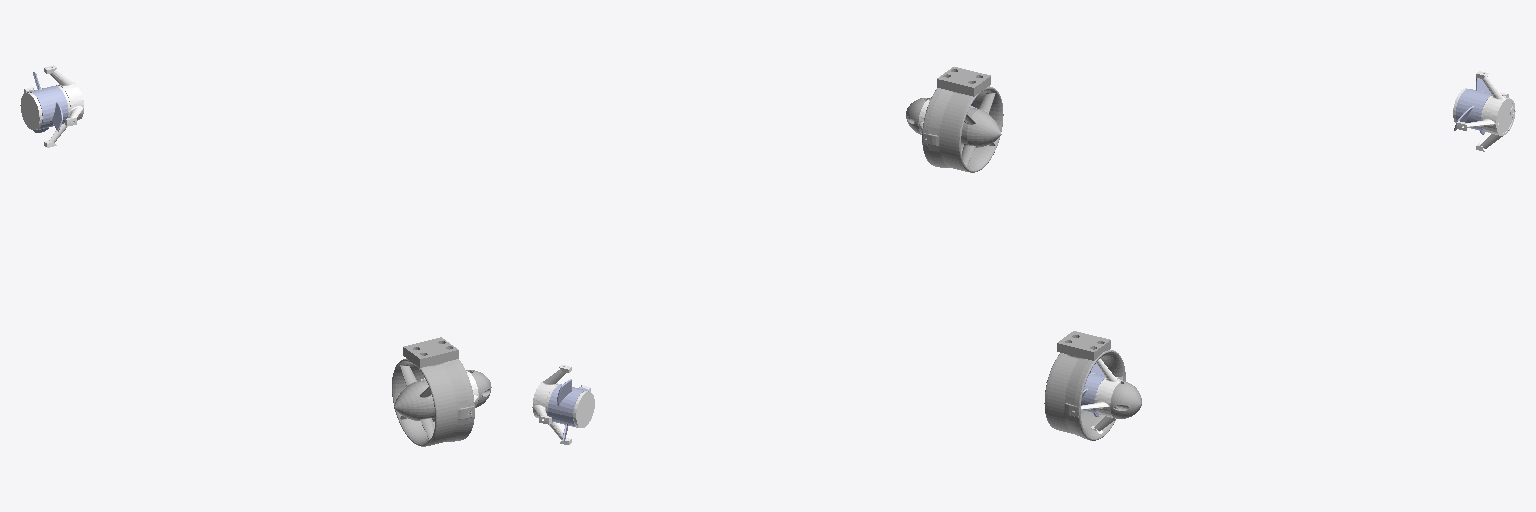
URDF robot description (CleaningBoat):
<?xml version="1.0" encoding="utf-8"?>
<!-- This URDF was automatically created by SolidWorks to URDF Exporter! Originally created by [author] ([email redacted]) 
     Commit Version: 1.6.0-4-g7f85cfe  Build Version: 1.6.7995.38578
     For more information, please see http://wiki.ros.org/sw_urdf_exporter -->
<robot
  name="CleaningBoat">
  <link
    name="base_boat">
    <inertial>
      <origin
        xyz="-0.0504299123892678 -0.00399328466998017 -0.174875808375425"
        rpy="0 0 0" />
      <mass
        value="13.4637284801427" />
      <inertia
        ixx="0.12480067925069"
        ixy="1.14626035110482E-06"
        ixz="-0.00148139606626633"
        iyy="0.0960555455042695"
        iyz="9.16339224172531E-06"
        izz="0.136334518910552" />
    </inertial>
    <visual>
      <origin
        xyz="0 0 0"
        rpy="0 0 0" />
      <geometry>
        <mesh
          filename="package://CleaningBoat/meshes/base_boat.STL" />
      </geometry>
      <material
        name="">
        <color
          rgba="0.752941176470588 0.752941176470588 0.752941176470588 1" />
      </material>
    </visual>
    <collision>
      <origin
        xyz="0 0 0"
        rpy="0 0 0" />
      <geometry>
        <mesh
          filename="package://CleaningBoat/meshes/base_boat.STL" />
      </geometry>
    </collision>
  </link>
  <link
    name="axe_droit">
    <inertial>
      <origin
        xyz="0.0230109768079529 -1.26854790101494E-06 4.87990531770899E-06"
        rpy="0 0 0" />
      <mass
        value="0.0681006952021269" />
      <inertia
        ixx="1.72388165413107E-05"
        ixy="1.96746157954376E-09"
        ixz="-7.48619976047338E-09"
        iyy="2.32241540649935E-05"
        iyz="-1.63733967087246E-09"
        izz="2.32478078421983E-05" />
    </inertial>
    <visual>
      <origin
        xyz="0 0 0"
        rpy="0 0 0" />
      <geometry>
        <mesh
          filename="package://CleaningBoat/meshes/axe_droit.STL" />
      </geometry>
      <material
        name="">
        <color
          rgba="1 1 1 1" />
      </material>
    </visual>
    <collision>
      <origin
        xyz="0 0 0"
        rpy="0 0 0" />
      <geometry>
        <mesh
          filename="package://CleaningBoat/meshes/axe_droit.STL" />
      </geometry>
    </collision>
  </link>
  <joint
    name="axe_droit_joint"
    type="fixed">
    <origin
      xyz="-0.30981 -0.40127 -0.3785"
      rpy="0 0 0" />
    <parent
      link="base_boat" />
    <child
      link="axe_droit" />
    <axis
      xyz="0 0 0" />
  </joint>
  <link
    name="fan_droite">
    <inertial>
      <origin
        xyz="0.012188 -1.9617E-09 4.458E-08"
        rpy="0 0 0" />
      <mass
        value="0.0079579" />
      <inertia
        ixx="3.7271E-06"
        ixy="2.1297E-13"
        ixz="-8.3402E-13"
        iyy="2.3933E-06"
        iyz="-4.6164E-10"
        izz="2.3945E-06" />
    </inertial>
    <visual>
      <origin
        xyz="0 0 0"
        rpy="0 0 0" />
      <geometry>
        <mesh
          filename="package://CleaningBoat/meshes/fan_droite.STL" />
      </geometry>
      <material
        name="">
        <color
          rgba="0.79216 0.81961 0.93333 1" />
      </material>
    </visual>
    <collision>
      <origin
        xyz="0 0 0"
        rpy="0 0 0" />
      <geometry>
        <mesh
          filename="package://CleaningBoat/meshes/fan_droite.STL" />
      </geometry>
    </collision>
  </link>
  <joint
    name="fan_droite_join"
    type="continuous">
    <origin
      xyz="0 0 0"
      rpy="0 0 0" />
    <parent
      link="axe_droit" />
    <child
      link="fan_droite" />
    <axis
      xyz="1 0 0" />
  </joint>
  <link
    name="axe_gauche">
    <inertial>
      <origin
        xyz="0 0 0"
        rpy="0 0 0" />
      <mass
        value="0" />
      <inertia
        ixx="0"
        ixy="0"
        ixz="0"
        iyy="0"
        iyz="0"
        izz="0" />
    </inertial>
    <visual>
      <origin
        xyz="0 0 0"
        rpy="0 0 0" />
      <geometry>
        <mesh
          filename="package://CleaningBoat/meshes/axe_gauche.STL" />
      </geometry>
      <material
        name="">
        <color
          rgba="1 1 1 1" />
      </material>
    </visual>
    <collision>
      <origin
        xyz="0 0 0"
        rpy="0 0 0" />
      <geometry>
        <mesh
          filename="package://CleaningBoat/meshes/axe_gauche.STL" />
      </geometry>
    </collision>
  </link>
  <joint
    name="axe_gauche_joint"
    type="fixed">
    <origin
      xyz="-0.31334 0.39873 -0.3785"
      rpy="0 0 0" />
    <parent
      link="base_boat" />
    <child
      link="axe_gauche" />
    <axis
      xyz="0 0 0" />
  </joint>
  <link
    name="fan_gauche">
    <inertial>
      <origin
        xyz="0.015709 -1.9617E-09 4.458E-08"
        rpy="0 0 0" />
      <mass
        value="0.0079579" />
      <inertia
        ixx="3.7271E-06"
        ixy="2.1297E-13"
        ixz="-8.3402E-13"
        iyy="2.3933E-06"
        iyz="-4.6164E-10"
        izz="2.3945E-06" />
    </inertial>
    <visual>
      <origin
        xyz="0 0 0"
        rpy="0 0 0" />
      <geometry>
        <mesh
          filename="package://CleaningBoat/meshes/fan_gauche.STL" />
      </geometry>
      <material
        name="">
        <color
          rgba="0.79216 0.81961 0.93333 1" />
      </material>
    </visual>
    <collision>
      <origin
        xyz="0 0 0"
        rpy="0 0 0" />
      <geometry>
        <mesh
          filename="package://CleaningBoat/meshes/fan_gauche.STL" />
      </geometry>
    </collision>
  </link>
  <joint
    name="fan_gauche_joint"
    type="continuous">
    <origin
      xyz="0 0 0"
      rpy="0 0 0" />
    <parent
      link="axe_gauche" />
    <child
      link="fan_gauche" />
    <axis
      xyz="1 0 0" />
  </joint>
</robot>

--- Facts derived from the render (not from the file) ---
Views: 3 orthographic renders of the robot side by side, from view 1: azimuth 30°, elevation 25°; view 2: azimuth 150°, elevation 25°; view 3: azimuth 330°, elevation 25°.
Model CleaningBoat with 5 links and 4 joints (2 continuous, 2 fixed), rooted at base_boat, posed every joint at zero.
Links seen in each view (by area): view 1: base_boat, axe_gauche, fan_gauche; view 2: base_boat, axe_gauche, fan_gauche; view 3: base_boat, axe_gauche, fan_gauche, axe_droit, fan_droite.
Boxes of the visible links, bbox=[...] form: base_boat: bbox=[392, 337, 491, 446]; axe_gauche: bbox=[20, 65, 83, 147]; fan_gauche: bbox=[27, 72, 68, 132]; base_boat: bbox=[906, 67, 1003, 172]; axe_gauche: bbox=[532, 365, 594, 444]; fan_gauche: bbox=[548, 379, 590, 441]; base_boat: bbox=[1044, 331, 1141, 440]; axe_gauche: bbox=[1453, 71, 1515, 151]; fan_gauche: bbox=[1454, 76, 1491, 134]; axe_droit: bbox=[1081, 359, 1122, 433]; fan_droite: bbox=[1081, 358, 1105, 416].
Size in the robot's own frame: 0.1127 by 0.892 by 0.1043 metres.
5 mesh visuals loaded from 5 distinct referenced files (5 binary STL).